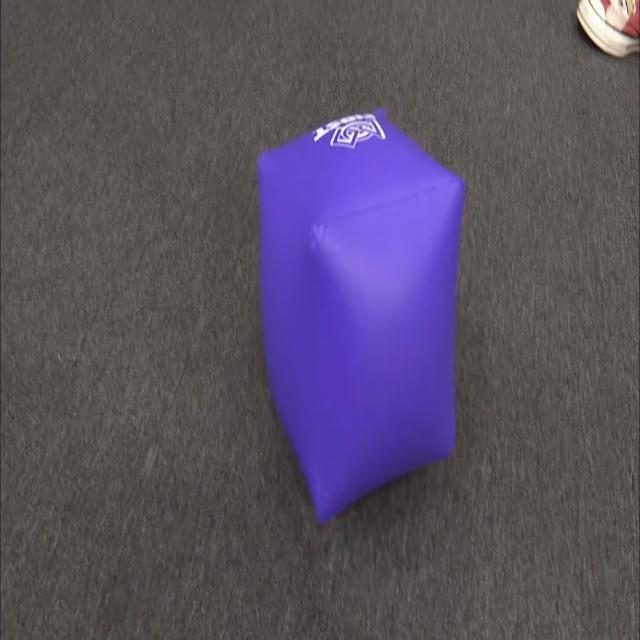frc_cube: (257, 90, 468, 530)
